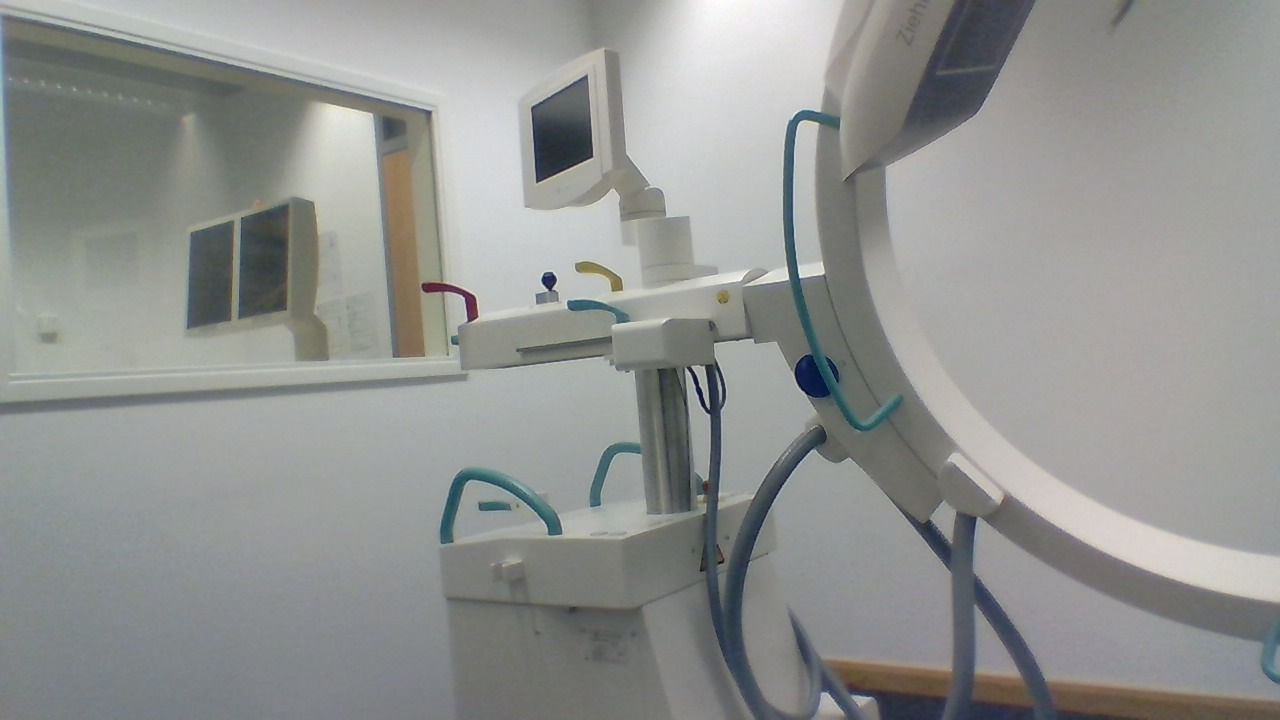carmBACK: (475, 486, 554, 520)
carmLOCK: (793, 352, 841, 399)
carmSCREEN: (515, 46, 626, 212)
